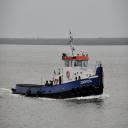tugboat: (12, 25, 106, 103)
